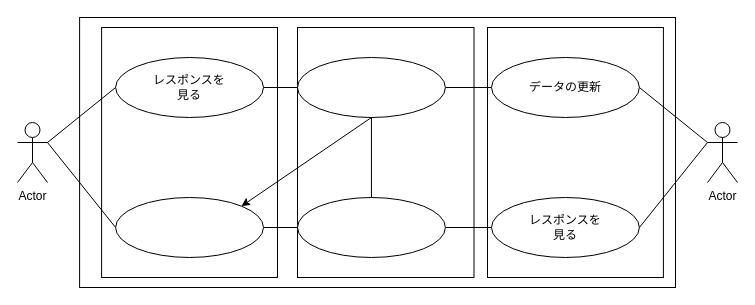
This 755x305 diagram has some shape labels left out. The centre of each missing label's shape, as x and y in pixels:
レスポンスを見る: point (189, 227)
レスポンス保持: point (370, 227)
レスポンス処理: point (370, 87)
